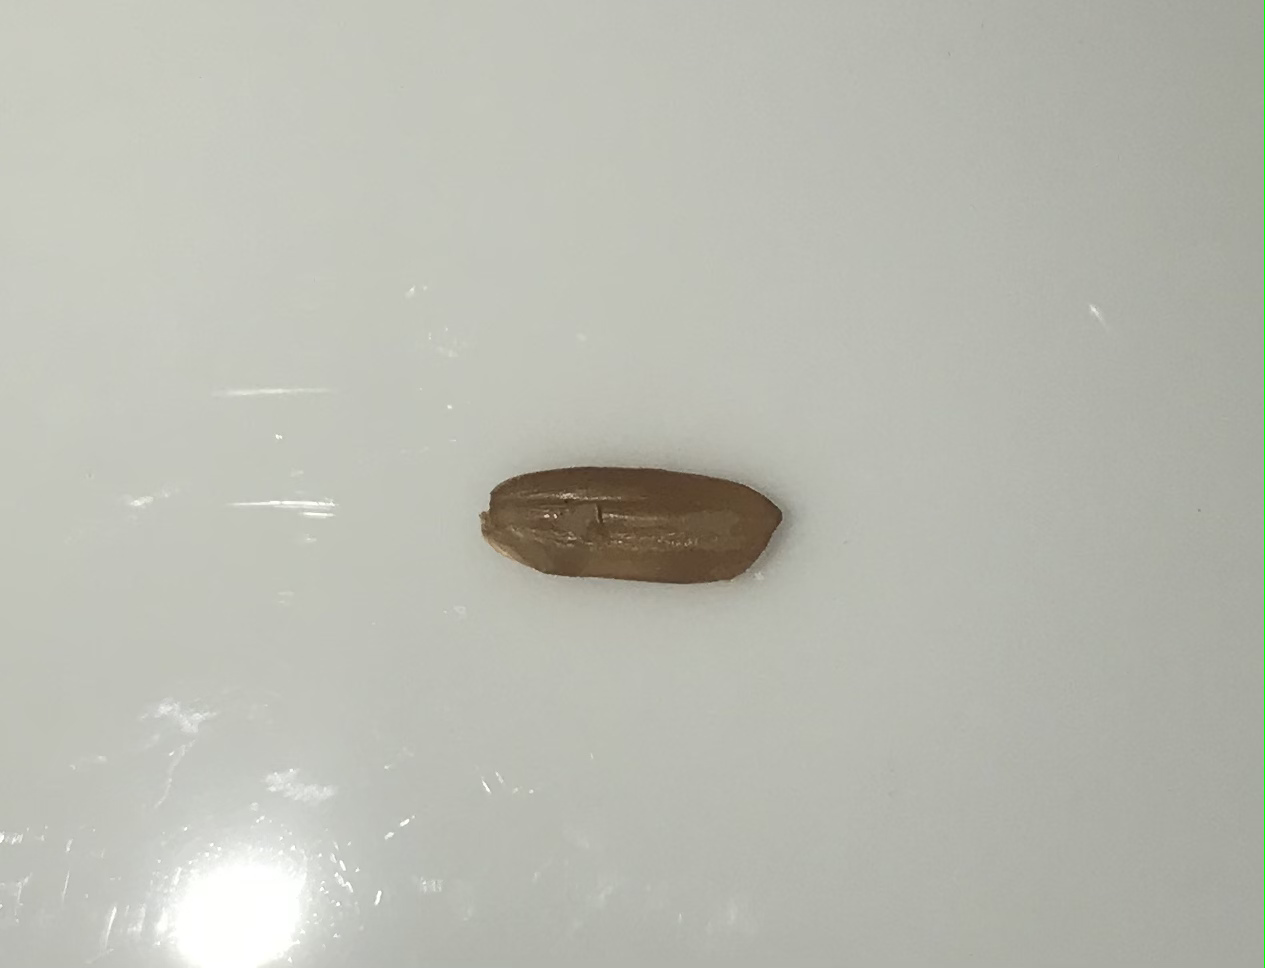Gao Lut Dien Bien: (480, 466, 788, 589)
